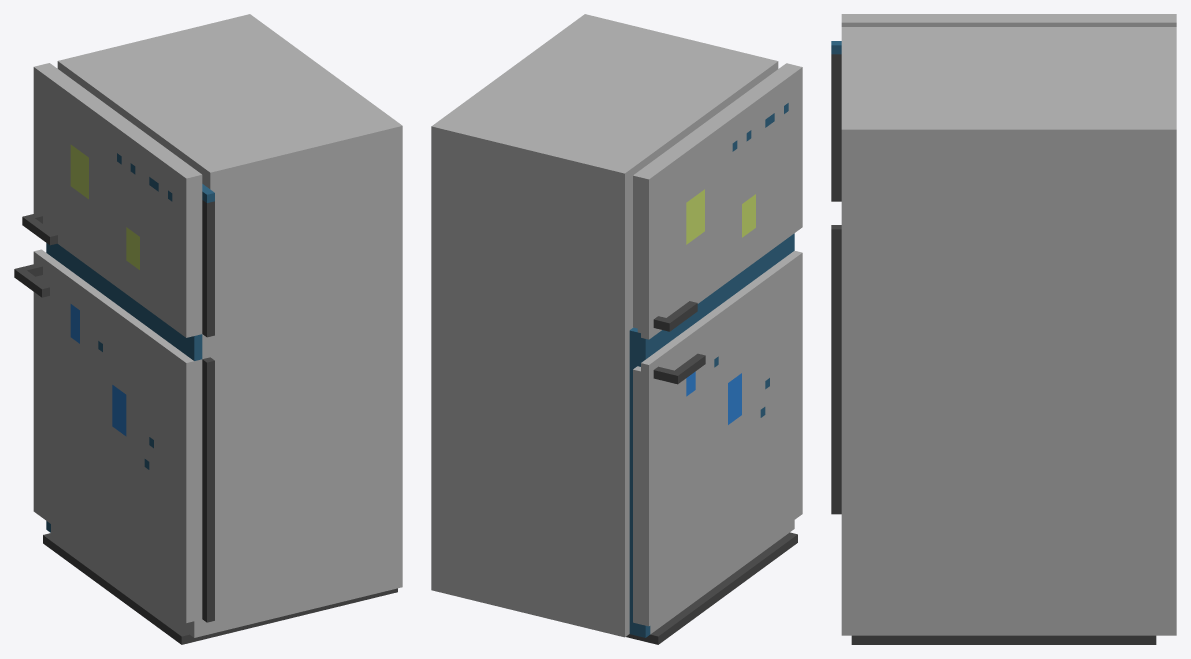
The model's file is Nha-8.obj.
The picture shows the model from 3 angles, left to right: view 1: azimuth 30°, elevation 25°; view 2: azimuth 150°, elevation 25°; view 3: azimuth 270°, elevation 25°; orthographic projection. The views are drawn at different scales.
Size of the model in its own units: 3 by 5.6 by 3.4.
Materials: 1 (1 with a texture image).
